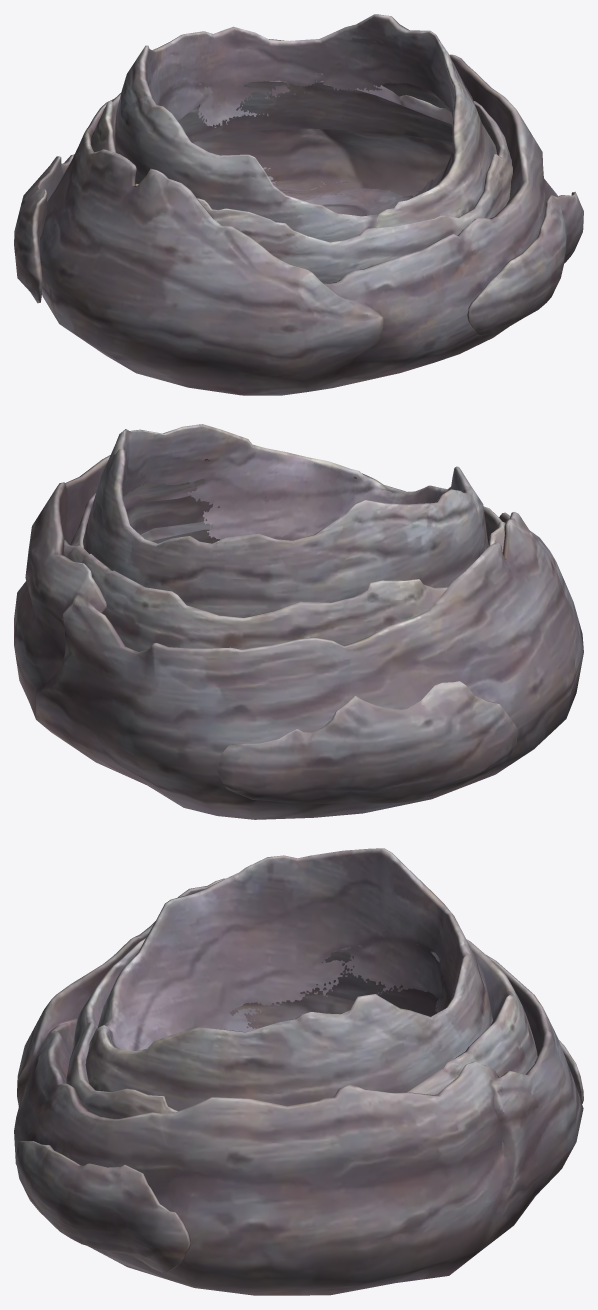
The picture shows the model from 3 angles, top to bottom: view 1: azimuth 30°, elevation 25°; view 2: azimuth 150°, elevation 25°; view 3: azimuth 270°, elevation 25°; orthographic projection. The views are drawn at different scales.
Visible parts, largest first — view 1: SM_Kalphite_Nest_01v1_LOD0; view 2: SM_Kalphite_Nest_01v1_LOD0; view 3: SM_Kalphite_Nest_01v1_LOD0.
Part boxes in pixels (x1,y1,x2,y2): SM_Kalphite_Nest_01v1_LOD0: (14, 14, 583, 395); SM_Kalphite_Nest_01v1_LOD0: (14, 424, 583, 819); SM_Kalphite_Nest_01v1_LOD0: (14, 848, 583, 1295).
Size of the model in its own units: 3.8 by 2.14 by 3.52.
1 material, 1 textured.
